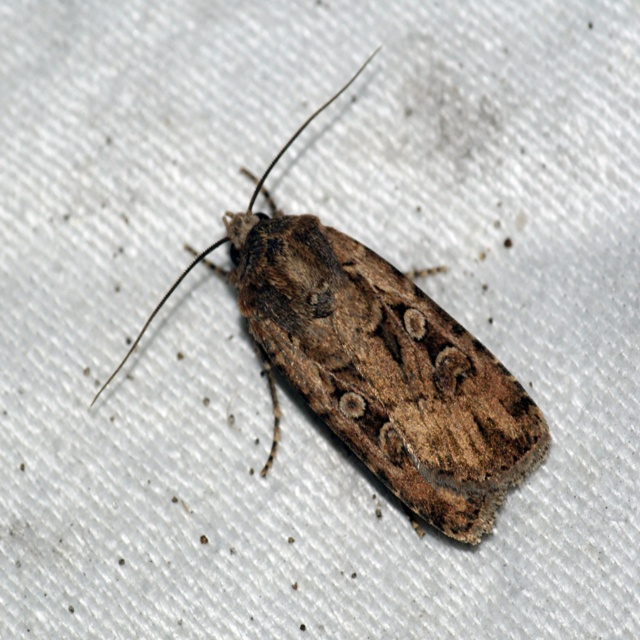Moths and butterflies: (92, 40, 556, 550)
